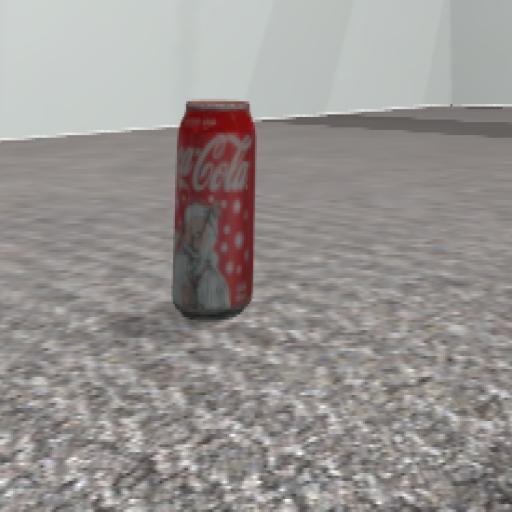COCA: (144, 79, 316, 341)
